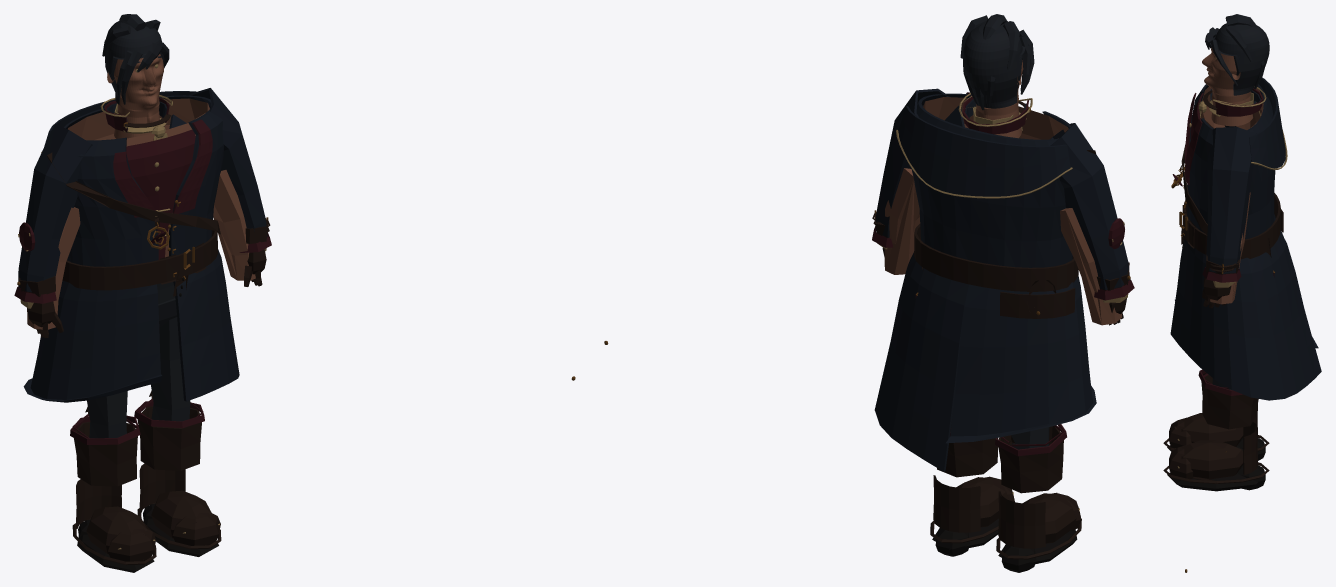
The model's file is SM_Character_VeilboundWayfarer_L2.obj.
3 renders of one model, left to right at view 1: azimuth 30°, elevation 25°; view 2: azimuth 150°, elevation 25°; view 3: azimuth 270°, elevation 25°, orthographic. The views are drawn at different scales.
Visible parts, largest first — view 1: SM_Character_VeilboundWayfarer; view 2: SM_Character_VeilboundWayfarer; view 3: SM_Character_VeilboundWayfarer.
Part boxes in pixels (bbox=[...]): SM_Character_VeilboundWayfarer: bbox=[14, 14, 575, 572]; SM_Character_VeilboundWayfarer: bbox=[604, 14, 1134, 572]; SM_Character_VeilboundWayfarer: bbox=[1163, 14, 1321, 572].
Size of the model in its own units: 1.96 by 1.85 by 0.5781.
